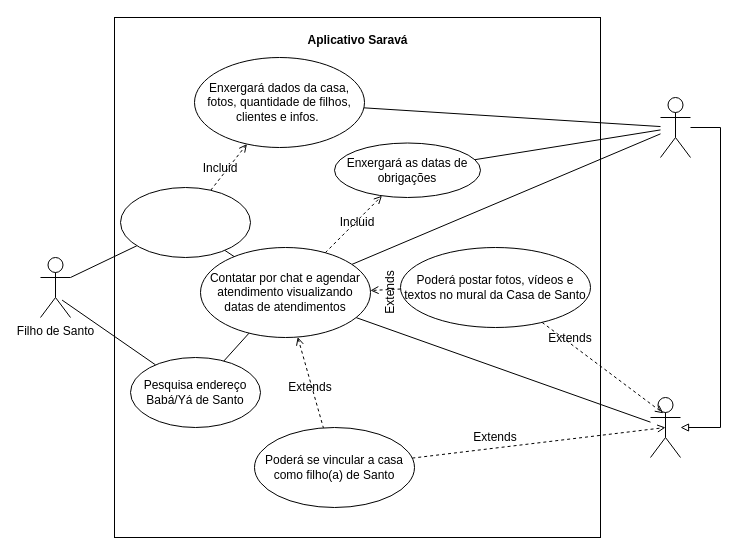
Image size: 746x555. Some labels were removed from this diagram. Here are the shapes that lost their labels. From the top down, the centre of each, then its label:
(675,127): Casa de Santo
(185,222): Pesquisa endereço de casa de Santo
(665,427): Babá/Yá
